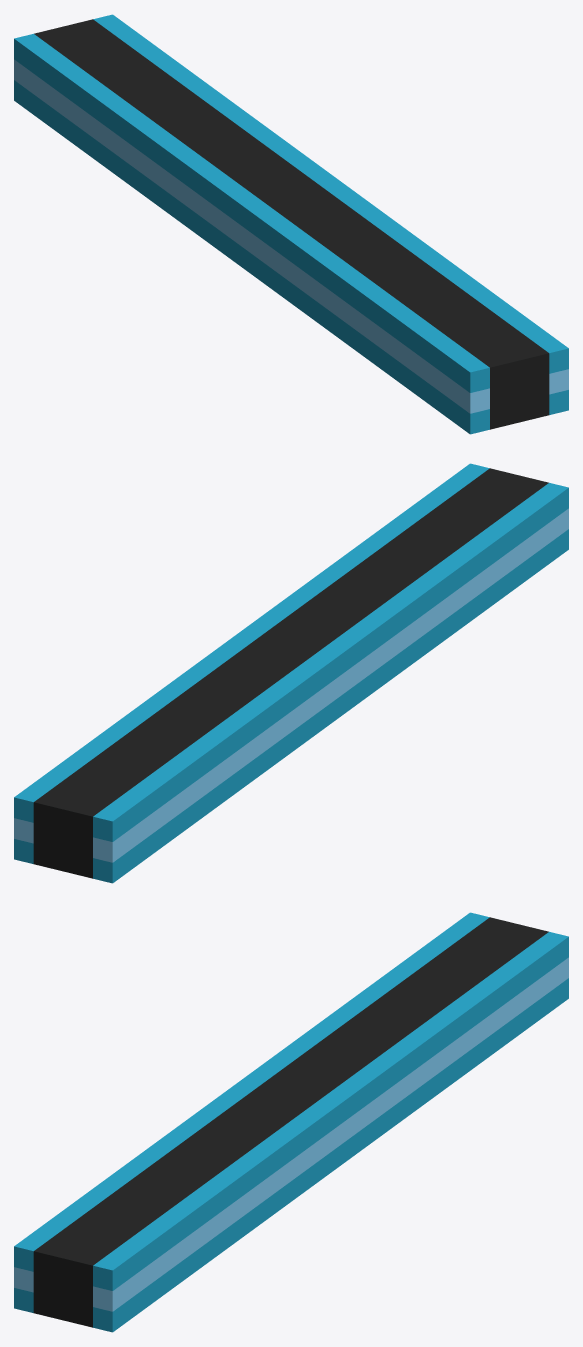
File: conduit.obj
The picture shows the model from 3 angles, top to bottom: view 1: azimuth 30°, elevation 25°; view 2: azimuth 150°, elevation 25°; view 3: azimuth 330°, elevation 25°; orthographic projection.
Size of the model in its own units: 0.5 by 0.3 by 4.
1 material, 1 textured.
